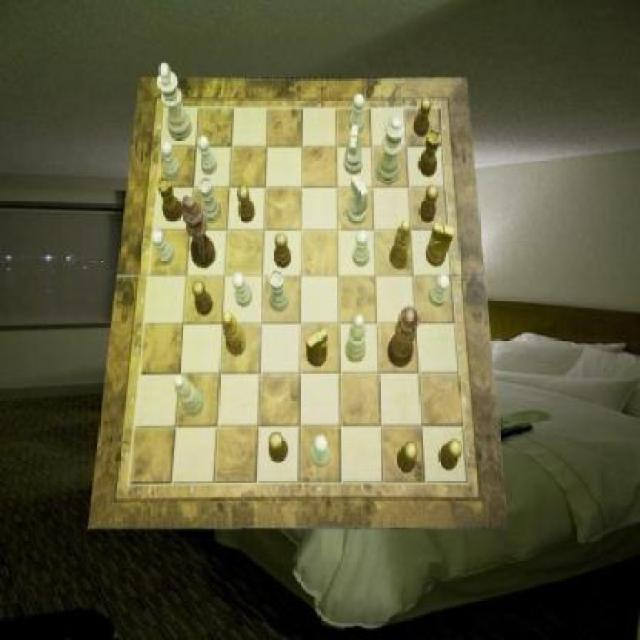bishop: (389, 220, 412, 271), (222, 311, 246, 356)
black-bishop: (183, 196, 217, 270)
black-king: (426, 221, 456, 267), (306, 328, 329, 368)
black-knight: (438, 440, 462, 472), (192, 280, 213, 316), (420, 185, 440, 222), (397, 441, 418, 474), (414, 97, 431, 137), (237, 186, 255, 222), (269, 432, 289, 463), (274, 232, 291, 268)
black-pawn: (388, 306, 420, 368)
black-queen: (157, 175, 183, 221), (418, 129, 442, 177)
black-rook: (174, 374, 204, 416), (346, 315, 366, 363)
white-bishop: (157, 63, 192, 141)
white-king: (348, 176, 368, 224), (345, 126, 362, 176)
white-knight: (150, 230, 174, 266), (198, 137, 218, 175), (428, 275, 450, 308), (162, 142, 180, 182), (234, 272, 254, 307), (311, 436, 330, 470), (354, 229, 371, 267), (351, 94, 366, 134)
white-pawn: (376, 117, 406, 185)
white-queen: (198, 177, 222, 225), (269, 269, 289, 312)
